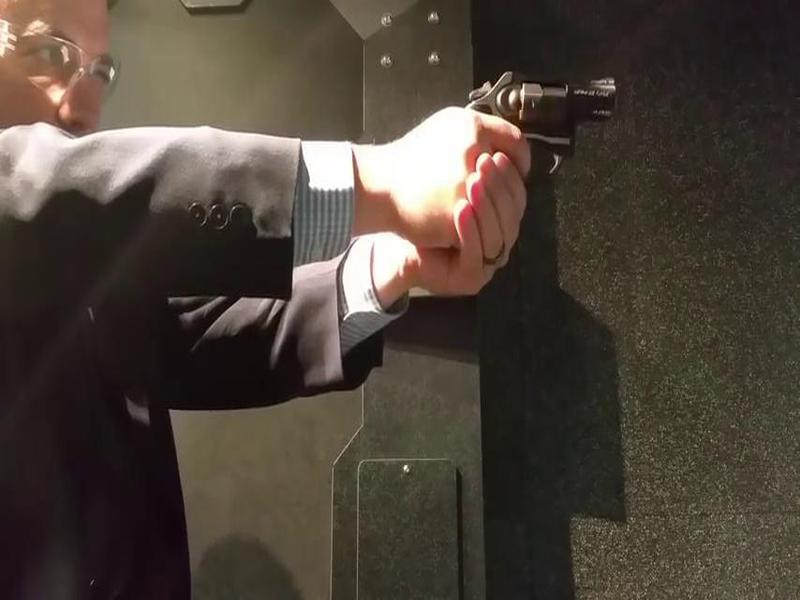Revolver: (458, 67, 632, 185)
